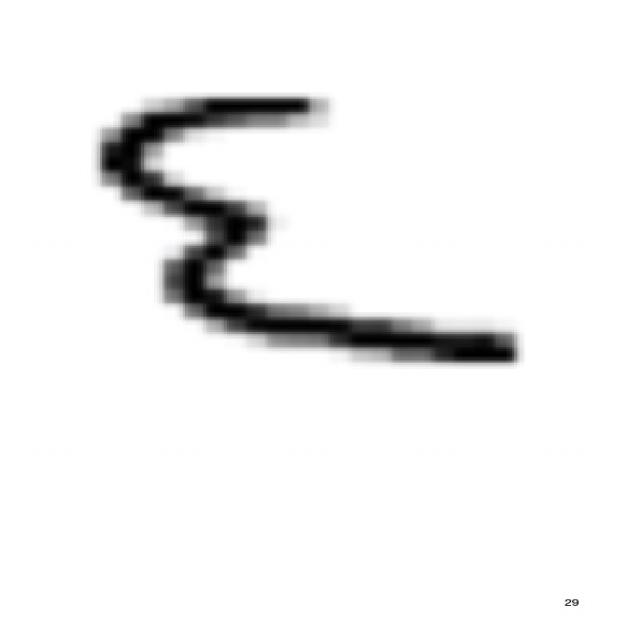4 -four-: (80, 80, 534, 377)
